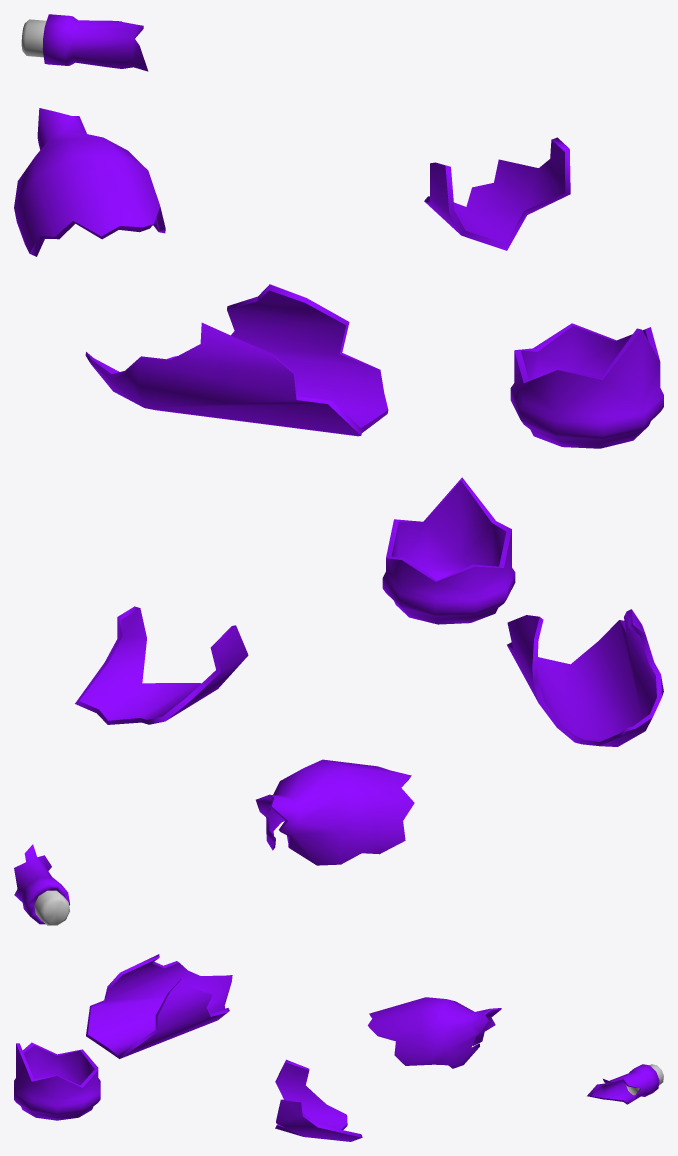
Rendered from amnesia_bottle_menu.dae.
3 renders of one model, top to bottom at view 1: azimuth 30°, elevation 25°; view 2: azimuth 150°, elevation 25°; view 3: azimuth 270°, elevation 25°, orthographic. The views are drawn at different scales.
Parts seen in each view (by area): view 1: polySurface46, pCylinder1; view 2: polySurface46, pCylinder1; view 3: polySurface46.
Boxes of the visible parts, x1=… form: polySurface46: x1=14, y1=14, x2=663, y2=448; pCylinder1: x1=21, y1=19, x2=46, y2=57; polySurface46: x1=14, y1=477, x2=663, y2=924; pCylinder1: x1=34, y1=890, x2=69, y2=925; polySurface46: x1=14, y1=954, x2=659, y2=1141.
Size of the model in its own units: 0.4695 by 0.0976 by 0.8393.
